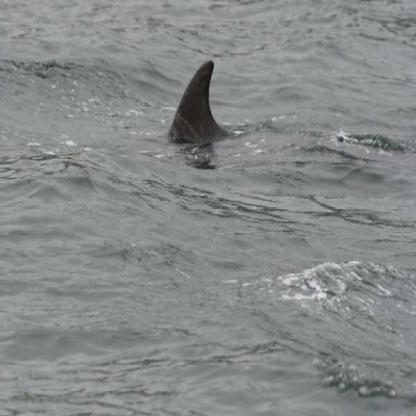dolphin-whale: (159, 54, 234, 150)
